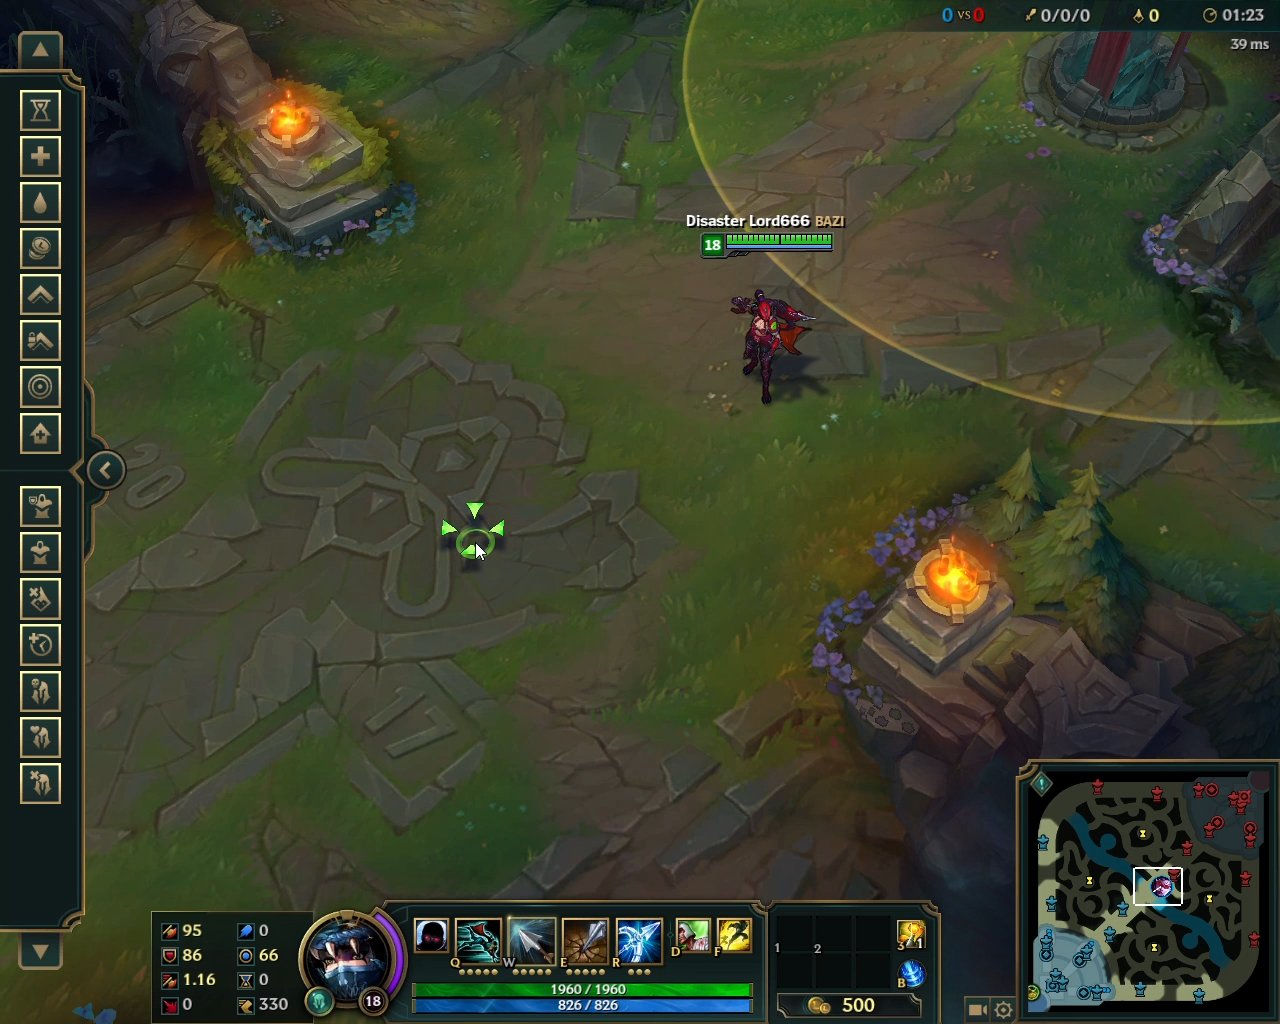Vayne: (724, 284, 815, 409)
